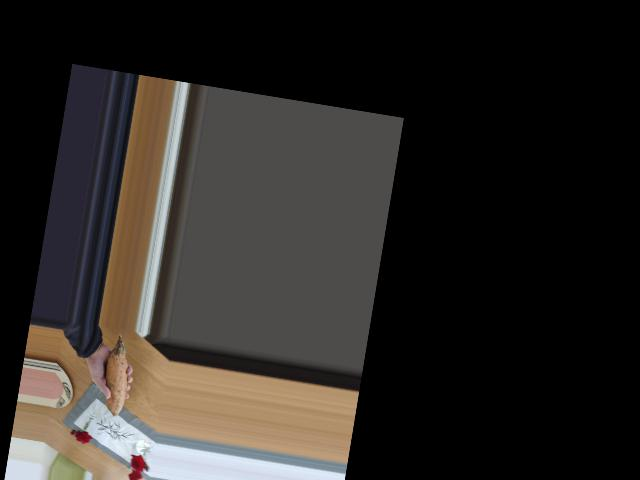sweet_potato: (91, 339, 137, 419)
